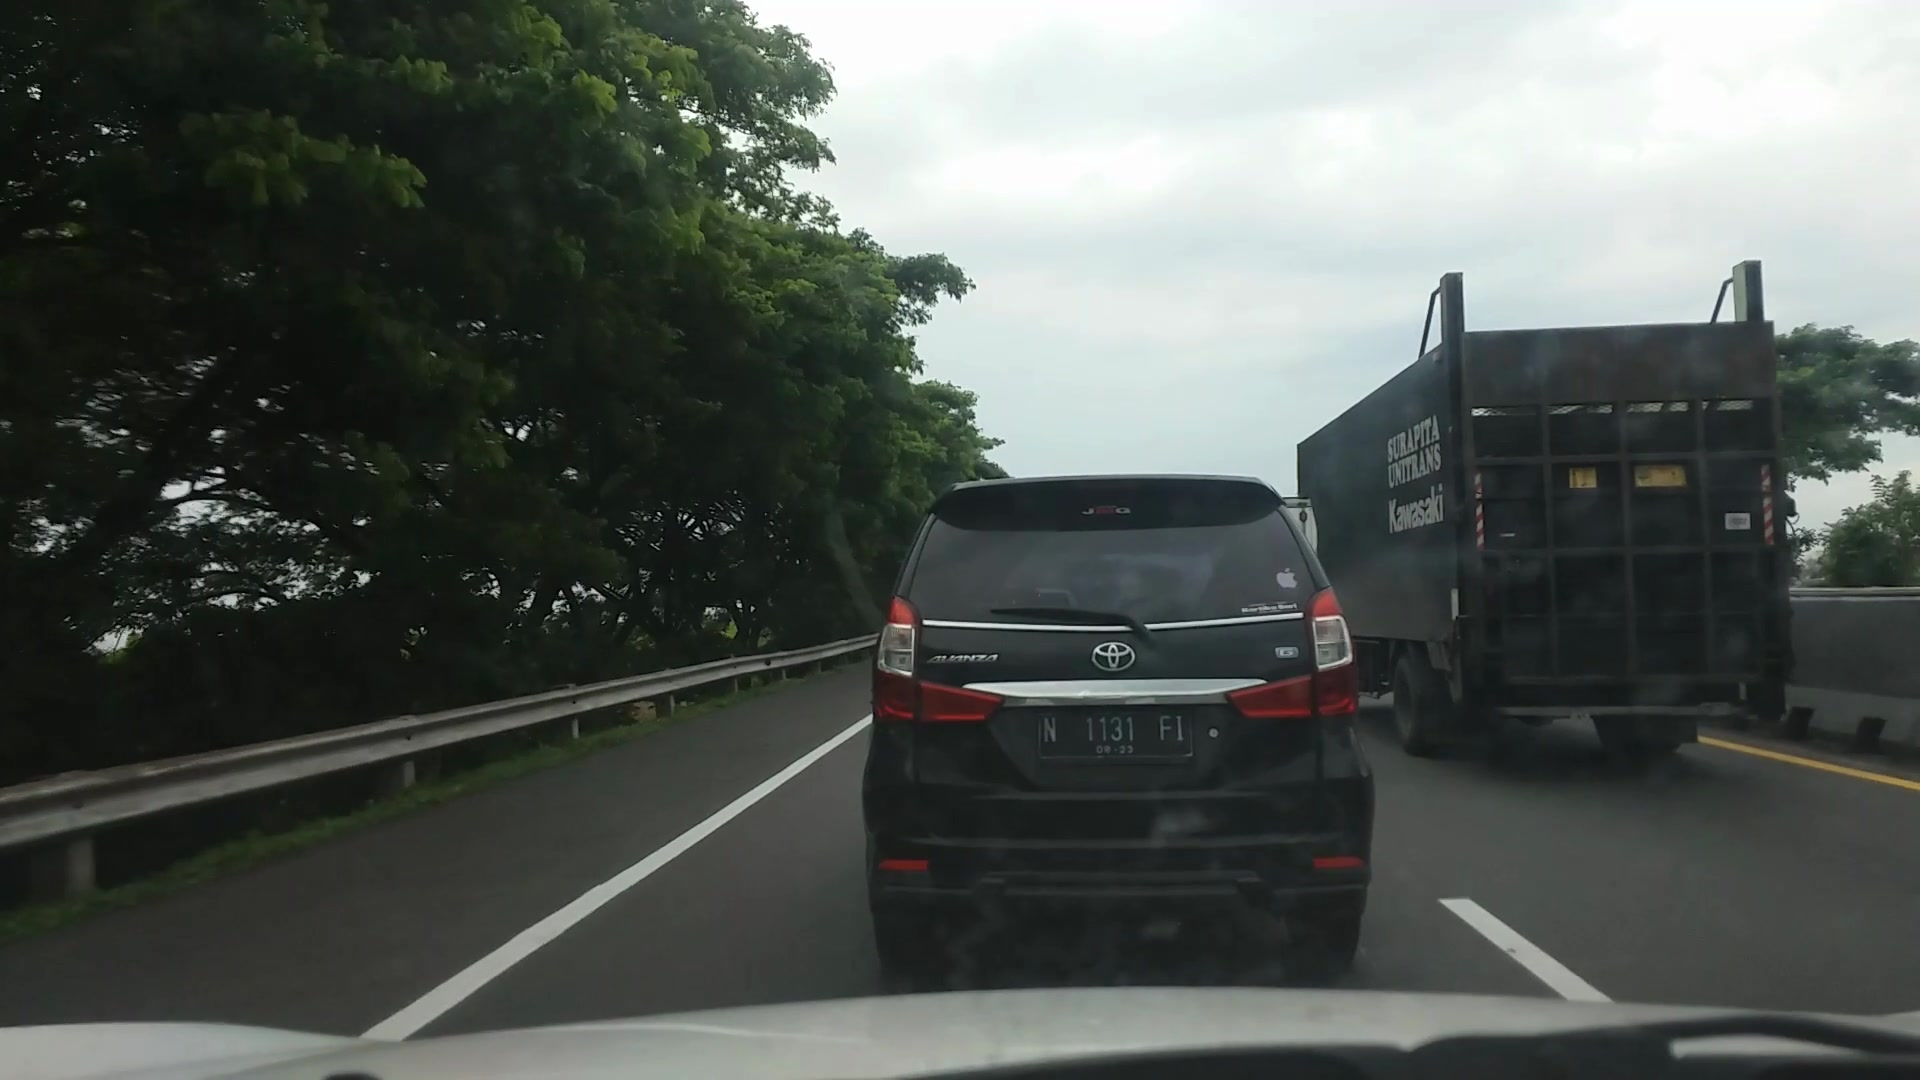plate_positive: (1039, 708, 1192, 757)
